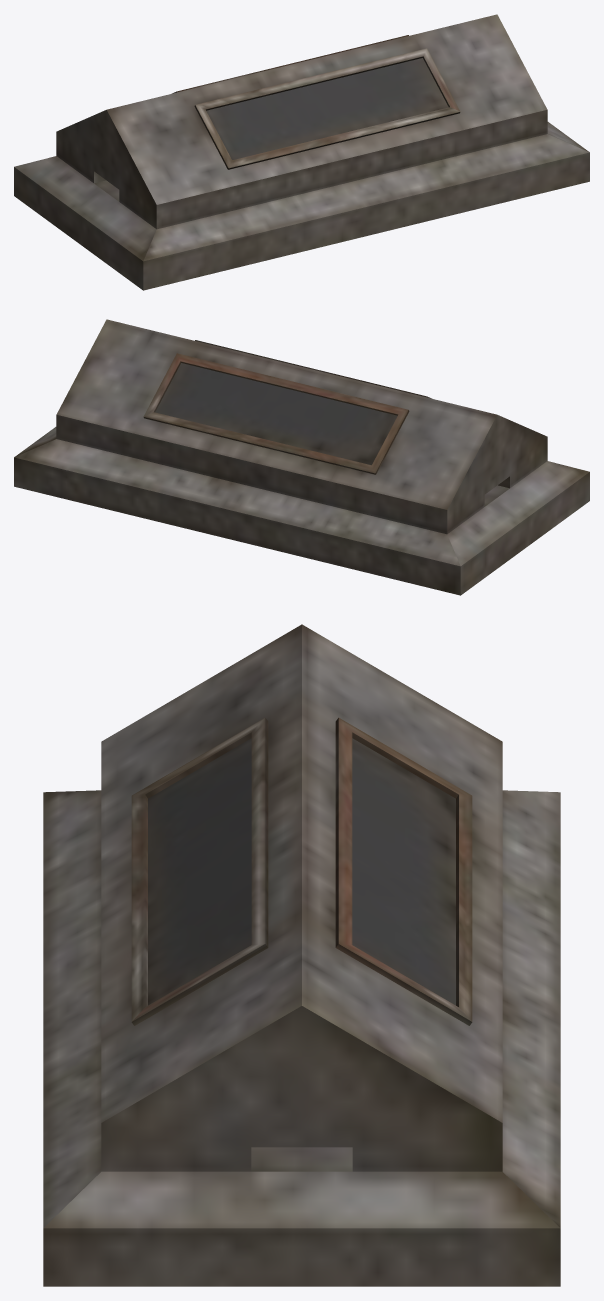
Rendered from pr_grave3.glb.
3 renders of one model, top to bottom at view 1: azimuth 30°, elevation 25°; view 2: azimuth 150°, elevation 25°; view 3: azimuth 270°, elevation 25°, orthographic. The views are drawn at different scales.
Visible parts, largest first — view 1: body|Graves; view 2: body|Graves; view 3: body|Graves.
Part boxes in pixels (bbox=[...]): body|Graves: bbox=[14, 14, 589, 290]; body|Graves: bbox=[14, 319, 589, 595]; body|Graves: bbox=[43, 624, 560, 1286].
Bounding box in the file's own units: 2.44 × 0.6615 × 1.22.
1 material, 1 textured.
